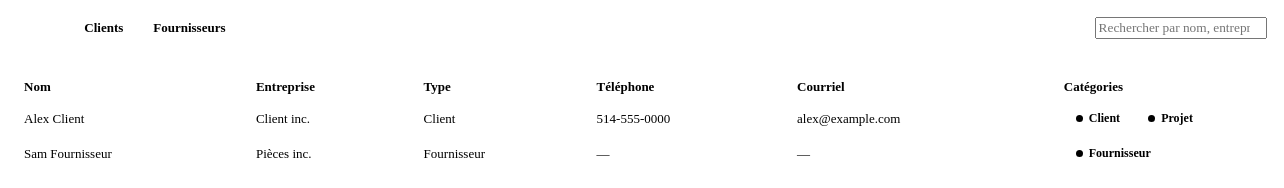
Test case: ContactList › affiche les contacts et filtre par recherche
expect the text "Alex Client" is shown: met, box [16,101,248,136]
expect the text "Sam Fournisseur" is shown: met, box [16,136,248,171]
In the search field with placeholder "Rechercher par nom, entreprise ou courriel…": (1181, 28) [1095,16,1267,38], type "fournisseur"
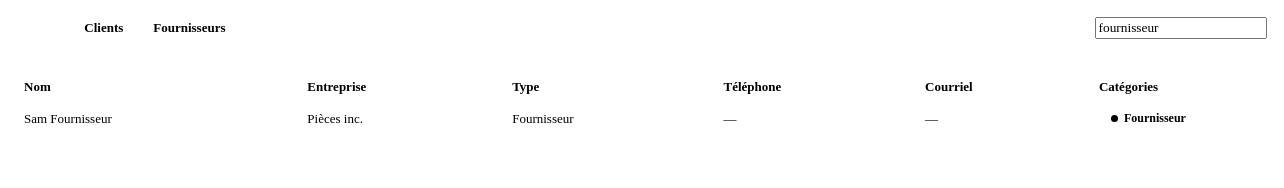
expect the text "Sam Fournisseur" is shown: met, box [16,101,299,136]
expect the text "Alex Client" is gone: met
